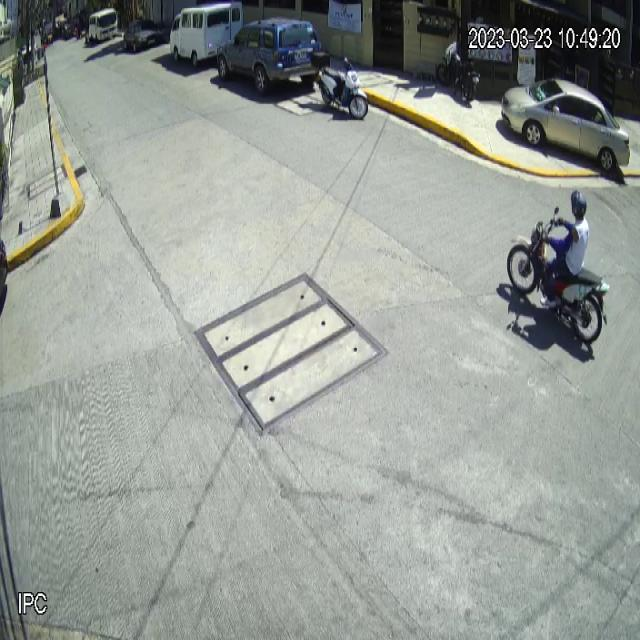Car: (500, 76, 630, 173), (217, 16, 322, 95)
Motorcycle: (506, 206, 610, 345), (311, 51, 368, 120)
Van: (170, 0, 244, 67)
